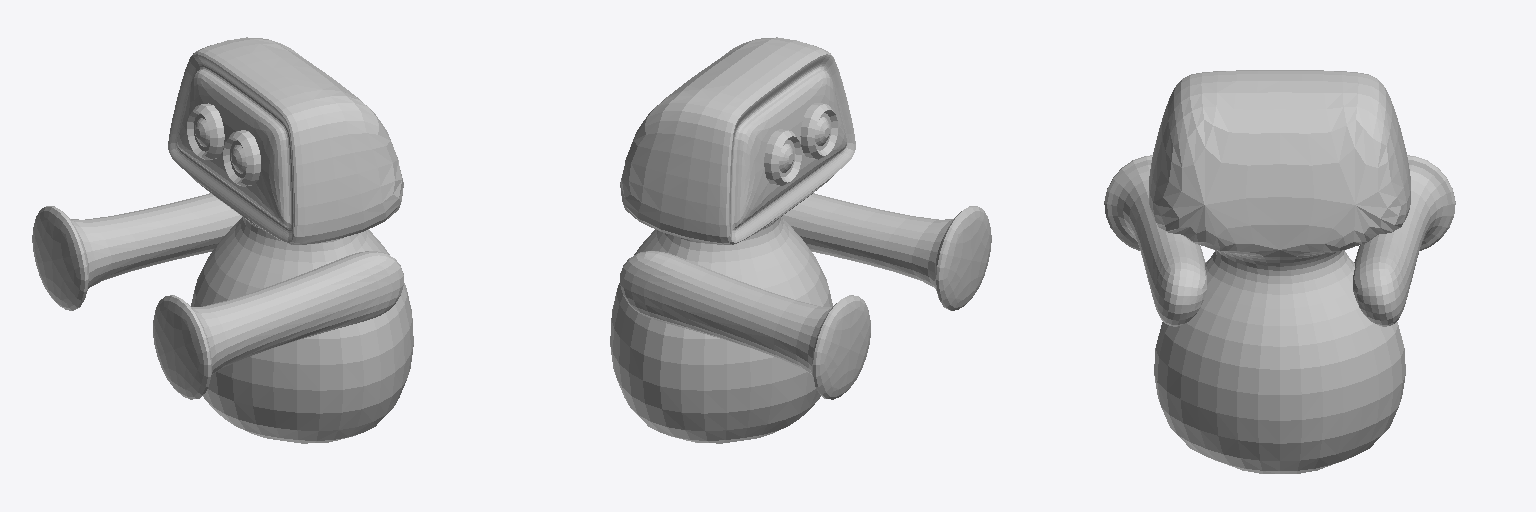
File: soko_fromBlender.obj
3 renders of one model, left to right at view 1: azimuth 30°, elevation 25°; view 2: azimuth 150°, elevation 25°; view 3: azimuth 270°, elevation 25°, orthographic.
Visible parts, largest first — view 1: Box002; view 2: Box002; view 3: Box002.
Part boxes in pixels (left/top/right/bottom): Box002: left=32, top=37, right=413, bottom=443; Box002: left=610, top=37, right=991, bottom=443; Box002: left=1104, top=70, right=1455, bottom=473.
Size of the model in its own units: 0.9429 by 1.16 by 1.